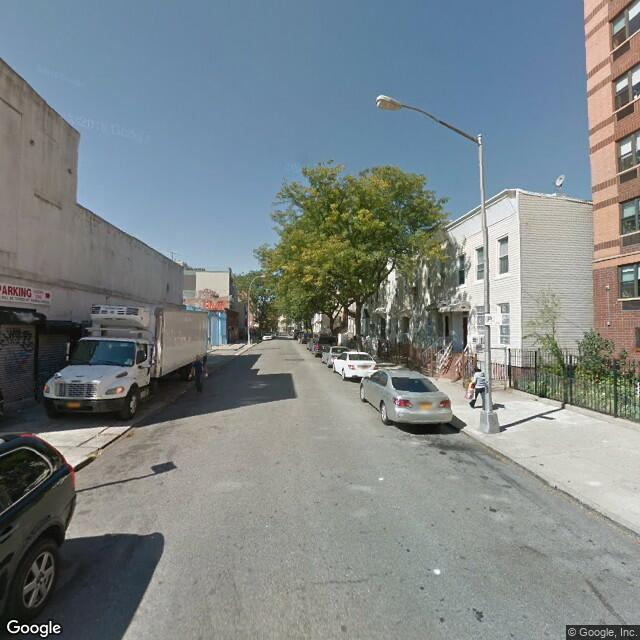litter: (430, 565, 442, 578), (374, 476, 386, 483)
